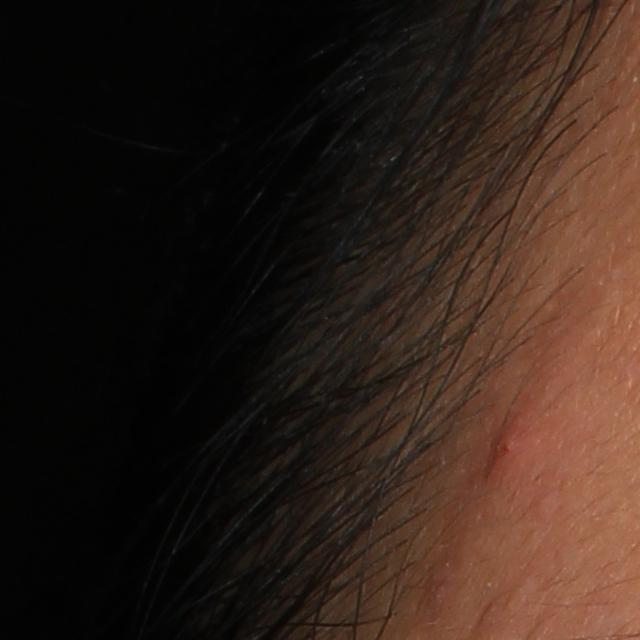papule: (478, 394, 527, 482)
